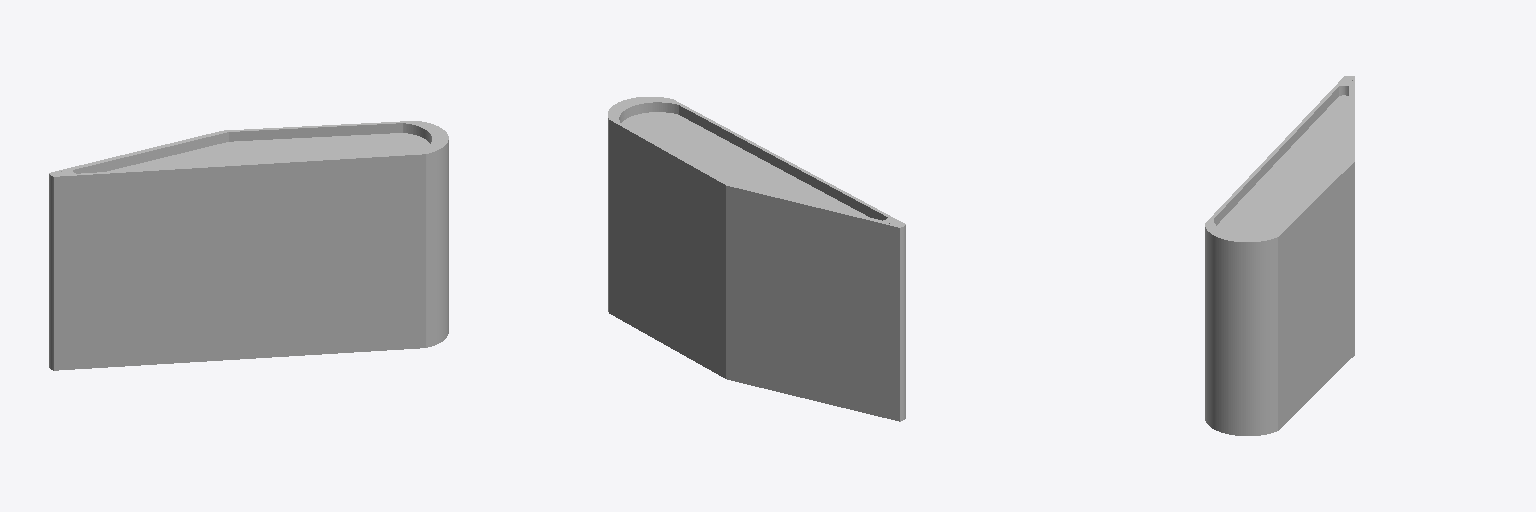
Rendered from FlippersLeft.obj.
3 views of the same model, side by side, from view 1: azimuth 30°, elevation 25°; view 2: azimuth 150°, elevation 25°; view 3: azimuth 270°, elevation 25° (orthographic).
Visible parts, largest first — view 1: Flipper_Cube.037, FLipeprIn_Cube.027; view 2: Flipper_Cube.037, FLipeprIn_Cube.027; view 3: Flipper_Cube.037, FLipeprIn_Cube.027.
Boxes of the visible parts, x1=… form: Flipper_Cube.037: x1=49, y1=121, x2=448, y2=370; FLipeprIn_Cube.027: x1=107, y1=133, x2=429, y2=171; Flipper_Cube.037: x1=608, y1=97, x2=905, y2=421; FLipeprIn_Cube.027: x1=621, y1=112, x2=867, y2=216; Flipper_Cube.037: x1=1205, y1=76, x2=1354, y2=435; FLipeprIn_Cube.027: x1=1217, y1=95, x2=1348, y2=235.
Size of the model in its own units: 0.9223 by 0.5 by 0.3509.